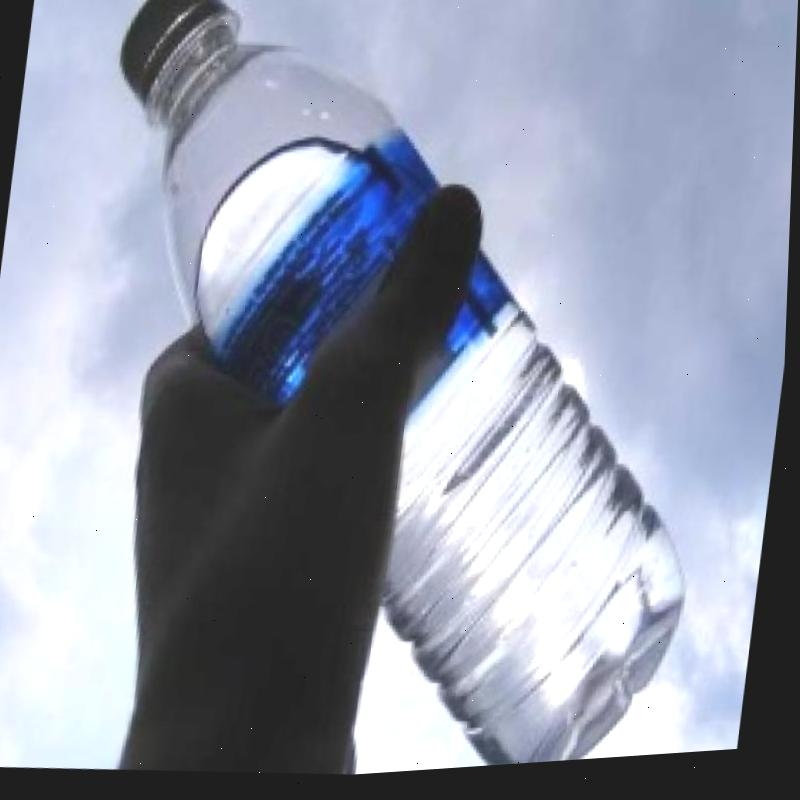botella: (37, 0, 762, 797)
